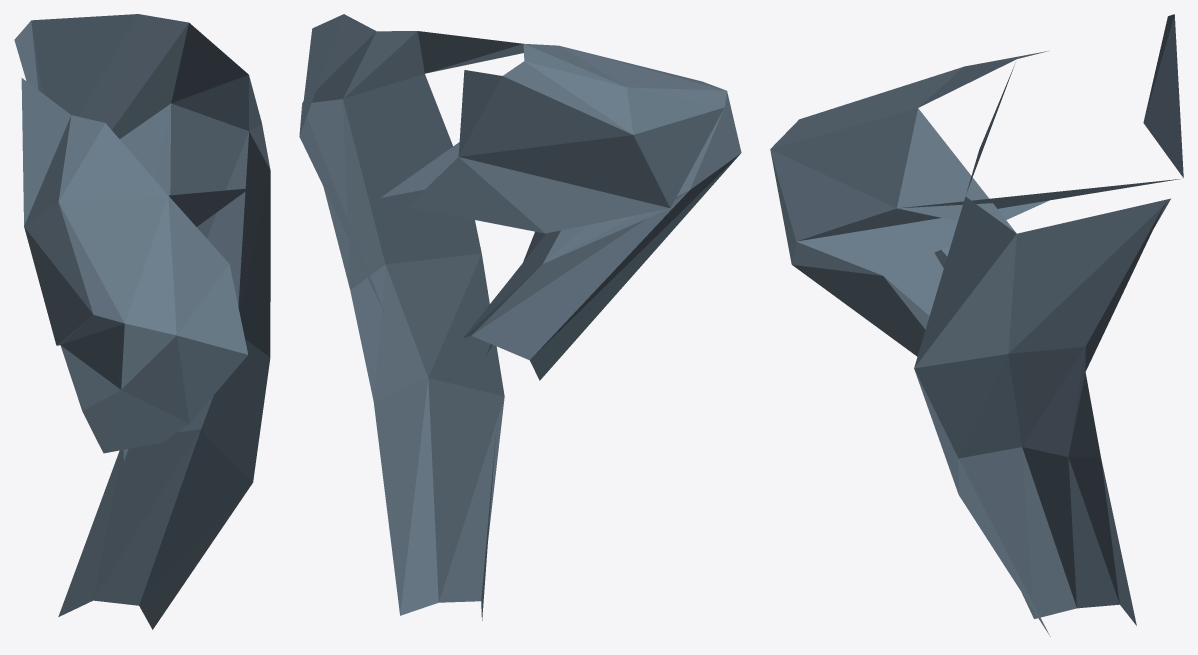
3 renders of one model, left to right at view 1: azimuth 30°, elevation 25°; view 2: azimuth 150°, elevation 25°; view 3: azimuth 270°, elevation 25°, orthographic. The views are drawn at different scales.
Size of the model in its own units: 0.6 by 1.19 by 0.7535.
1 material, 1 textured.
